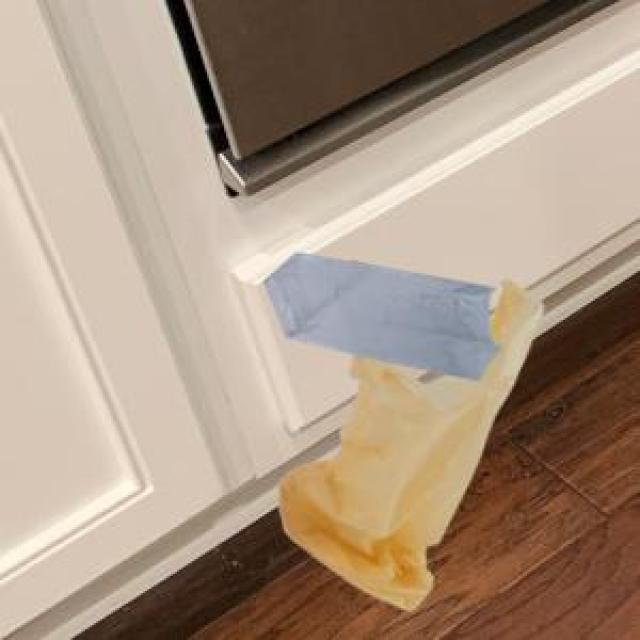plastic: (240, 229, 570, 623)
